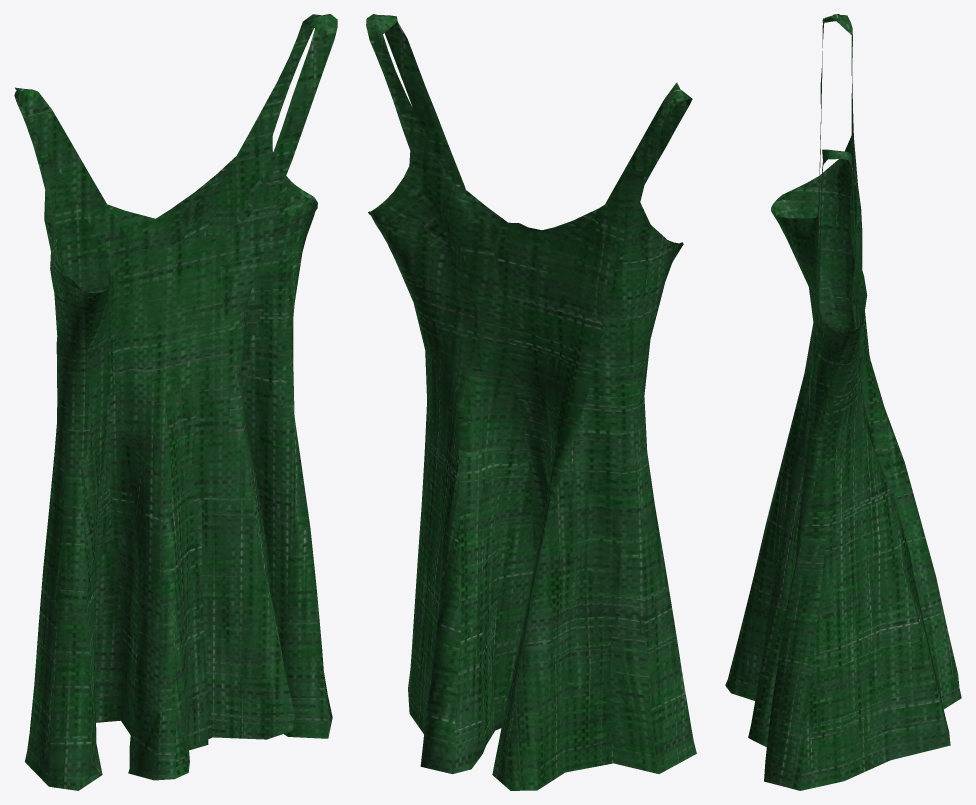
File: yifu_07_01_3.fbx
The picture shows the model from 3 angles, left to right: view 1: azimuth 30°, elevation 25°; view 2: azimuth 150°, elevation 25°; view 3: azimuth 270°, elevation 25°; orthographic projection. The views are drawn at different scales.
Visible parts, largest first — view 1: yifu_07_01_3; view 2: yifu_07_01_3; view 3: yifu_07_01_3.
Part boxes in pixels (<box>): yifu_07_01_3: <box>14,14,337,790</box>; yifu_07_01_3: <box>366,14,696,790</box>; yifu_07_01_3: <box>725,14,961,790</box>.
Size of the model in its own units: 39.37 by 81.55 by 27.08.
